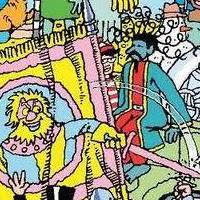wenda: (98, 35, 116, 75)
